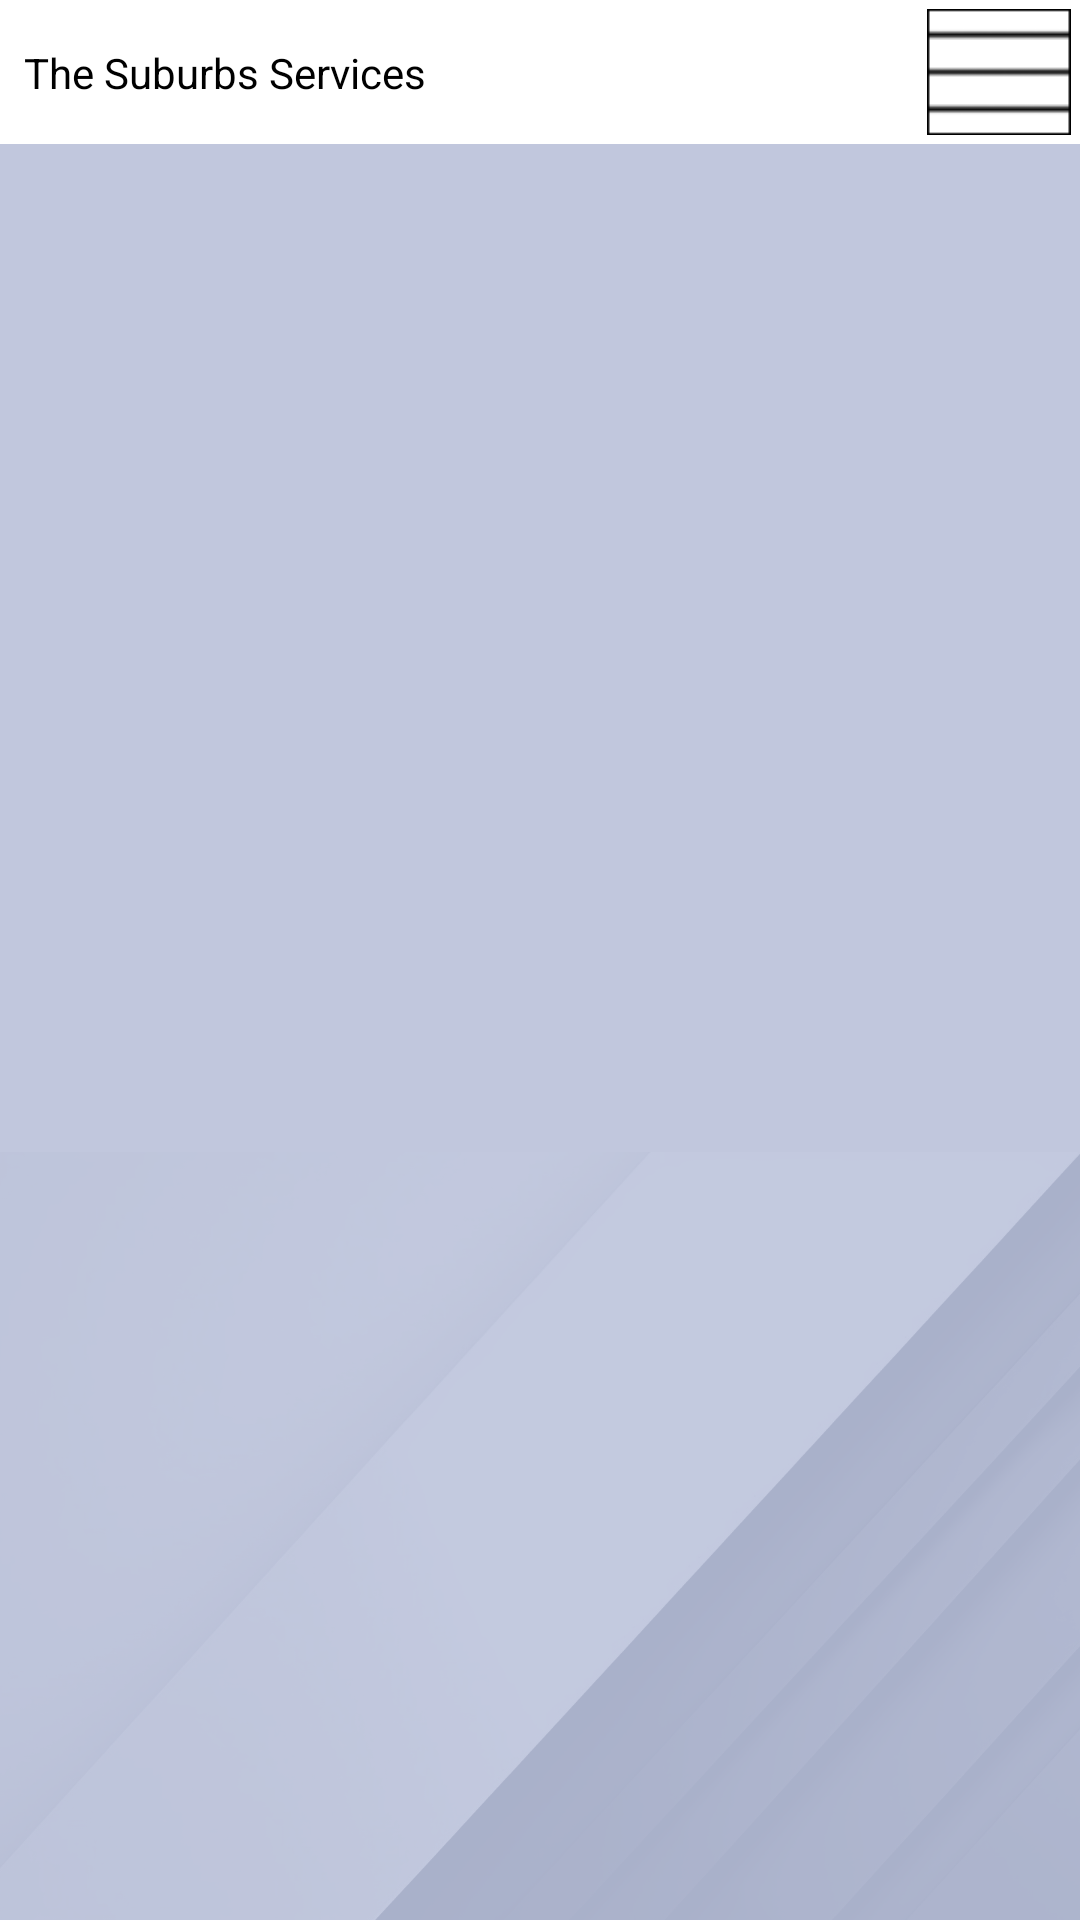

Where icons sit on this 1080 × 1920 app screen, as (x1, y1, x2, y2):
menu: (927, 9, 1071, 135)
